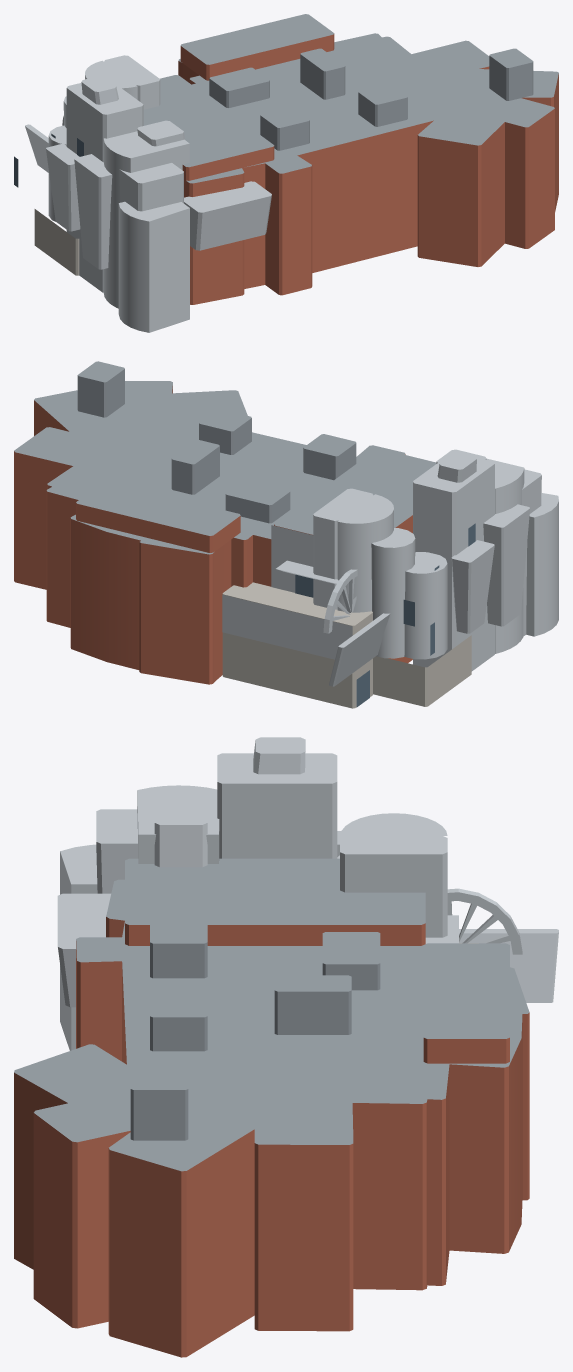
File: msp-weisman-art-museum.glb
3 renders of one model, top to bottom at view 1: azimuth 30°, elevation 25°; view 2: azimuth 150°, elevation 25°; view 3: azimuth 270°, elevation 25°, orthographic. The views are drawn at different scales.
Visible parts, largest first — view 1: msp-weisman-art-museum; view 2: msp-weisman-art-museum; view 3: msp-weisman-art-museum.
Boxes of the visible parts, bbox=[...] form: msp-weisman-art-museum: bbox=[14, 14, 558, 332]; msp-weisman-art-museum: bbox=[14, 361, 558, 708]; msp-weisman-art-museum: bbox=[14, 737, 558, 1357].
Size of the model in its own units: 84.97 by 33.6 by 56.76.
